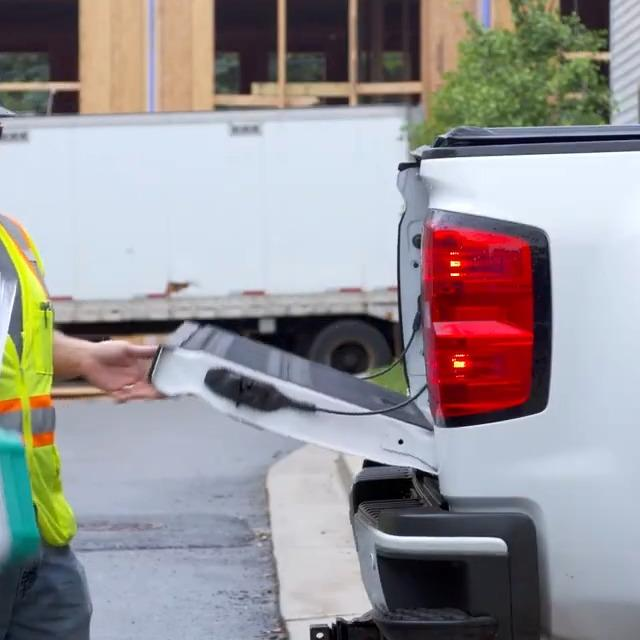Person: (0, 41, 155, 640)
Safety Vest: (0, 194, 78, 554)
trailer: (0, 100, 423, 385)
truck: (151, 117, 640, 640)
